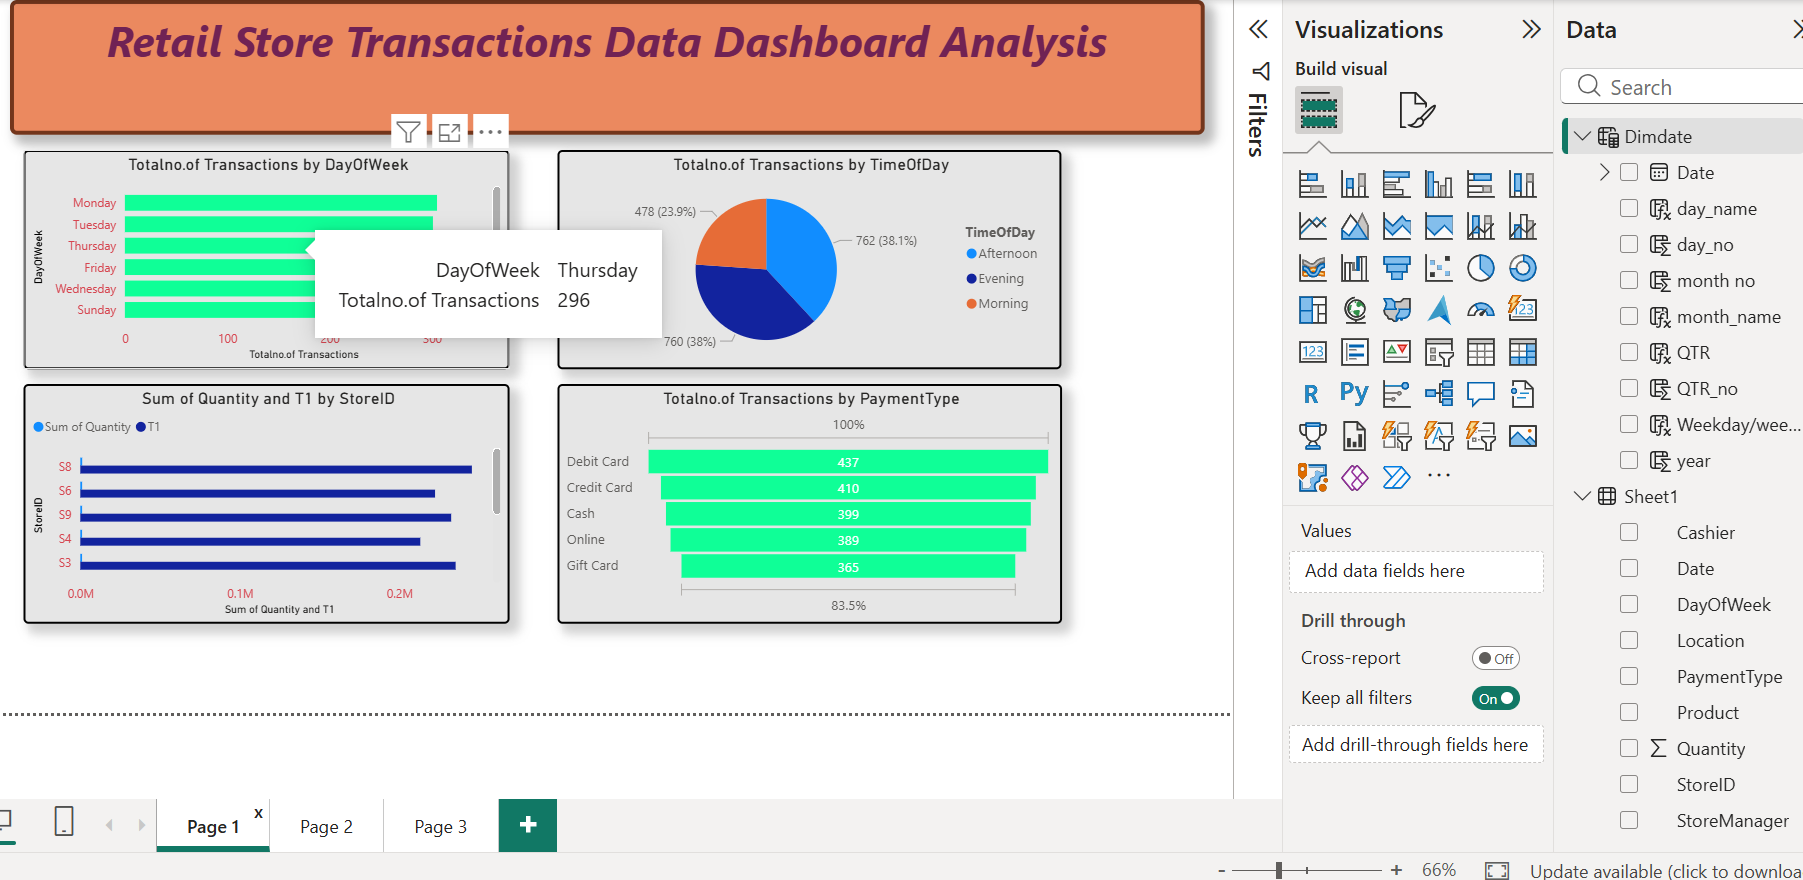

Layout of this report page (visuals, bound fields, positions):
{"tool":"powerbi","page":{"name":"Page 1","canvas":[1280,720],"ordinal":0},"visuals":[{"type":"textbox","box":[45.4,0,1205.7,136.1],"z":0},{"type":"barChart","fields":{"Y":["Sheet1.Totalno.of Transactions"],"Category":["Sheet1.DayOfWeek"]},"box":[59.1,151.4,490.6,221.1],"z":1000},{"type":"clusteredBarChart","fields":{"Category":["Sheet1.StoreID"],"Y":["Sum(Sheet1.Quantity)","Sheet1.T1"]},"box":[59.1,387.6,490.6,242.3],"z":2000},{"type":"pieChart","fields":{"Category":["Sheet1.TimeOfDay"],"Y":["Sheet1.Totalno.of Transactions"]},"box":[598.1,151.4,508.8,221.1],"z":3000},{"type":"funnel","fields":{"Category":["Sheet1.PaymentType"],"Y":["Sheet1.Totalno.of Transactions"]},"box":[598,388,509,242],"z":4000}]}

Visuals, with their boxes on the page's 1280x720 design canvas (x1, y1, x2, y2). These are canvas units, not pixel positions in the 1803x880 screenshot, which may show the page scaled, cropped or inside an application window:
textbox: {"x1": 45, "y1": 0, "x2": 1251, "y2": 136}
barChart - Sheet1.Totalno.of Transactions x Sheet1.DayOfWeek: {"x1": 59, "y1": 151, "x2": 550, "y2": 372}
clusteredBarChart - Sheet1.StoreID x Sum(Sheet1.Quantity): {"x1": 59, "y1": 388, "x2": 550, "y2": 630}
pieChart - Sheet1.TimeOfDay x Sheet1.Totalno.of Transactions: {"x1": 598, "y1": 151, "x2": 1107, "y2": 372}
funnel - Sheet1.PaymentType x Sheet1.Totalno.of Transactions: {"x1": 598, "y1": 388, "x2": 1107, "y2": 630}
